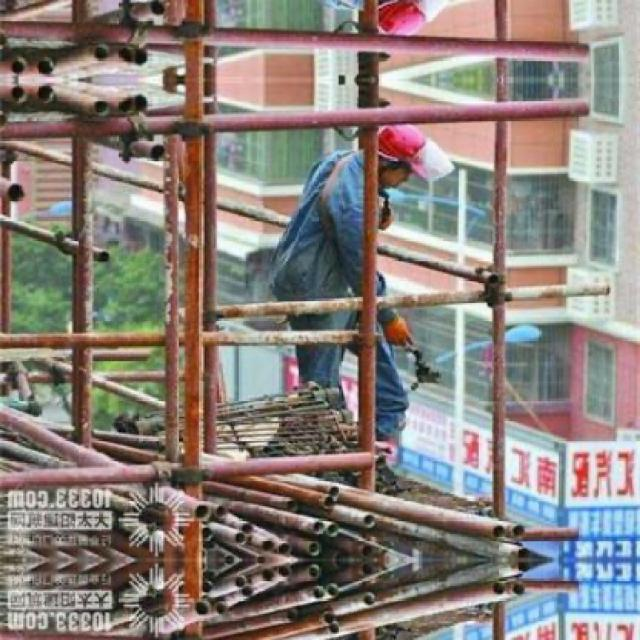con casco: (345, 108, 451, 188)
